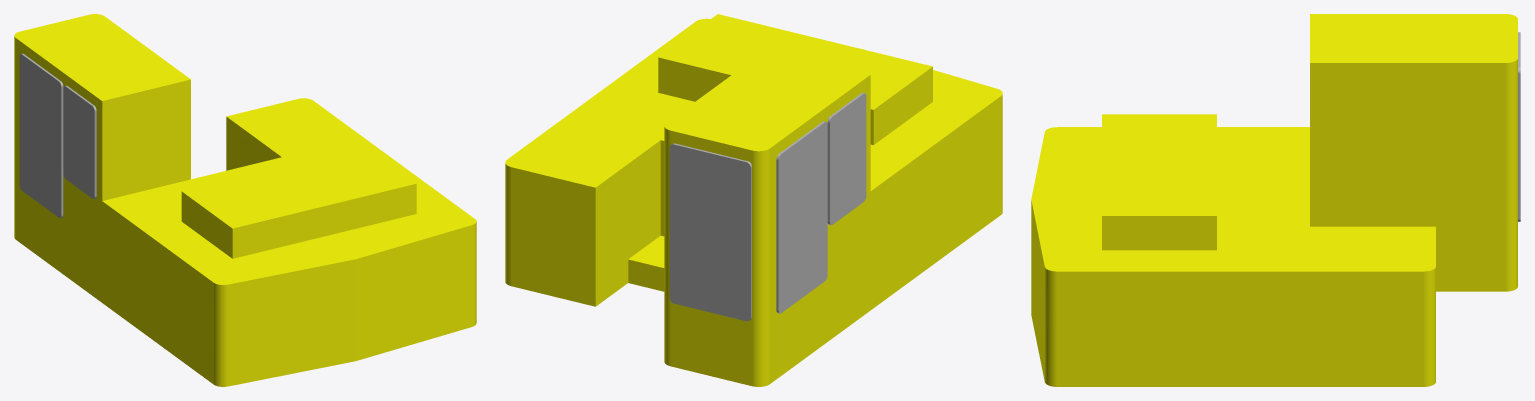
File: body.glb
3 views of the same model, side by side, from view 1: azimuth 30°, elevation 25°; view 2: azimuth 150°, elevation 25°; view 3: azimuth 270°, elevation 25° (orthographic). The views are drawn at different scales.
Visible parts, largest first — view 1: body.SLDPRT; view 2: body.SLDPRT; view 3: body.SLDPRT.
Boxes of the visible parts, bbox=[...] form: body.SLDPRT: bbox=[14, 14, 476, 386]; body.SLDPRT: bbox=[505, 14, 1002, 386]; body.SLDPRT: bbox=[1031, 14, 1520, 386].
Bounding box in the file's own units: 2.73 × 2 × 3.88.
